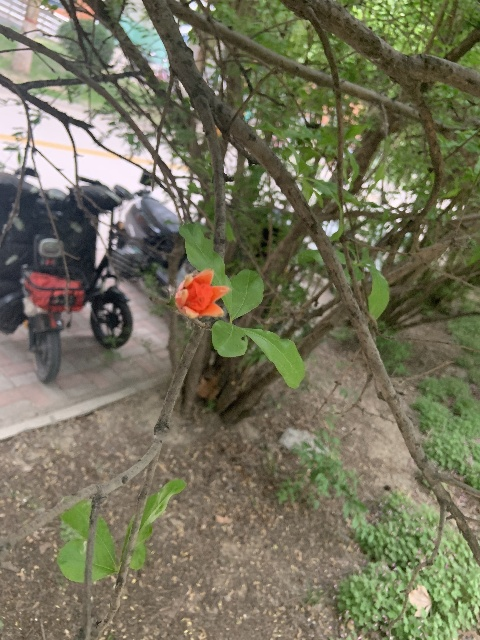flower: (174, 268, 230, 318)
